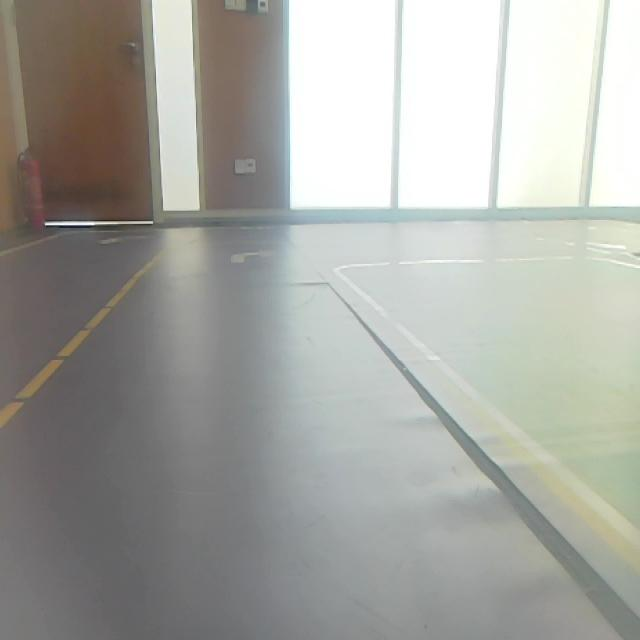left_lane: (2, 249, 157, 437)
right_lane: (333, 269, 640, 572)
